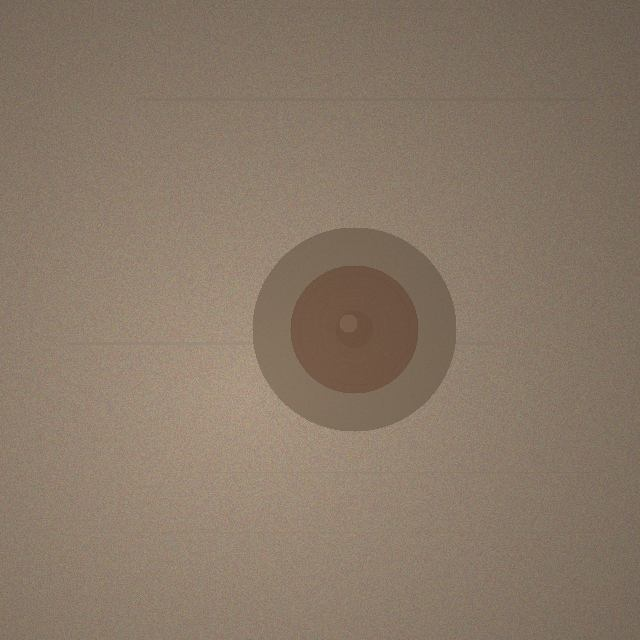good: (252, 227, 456, 431)
